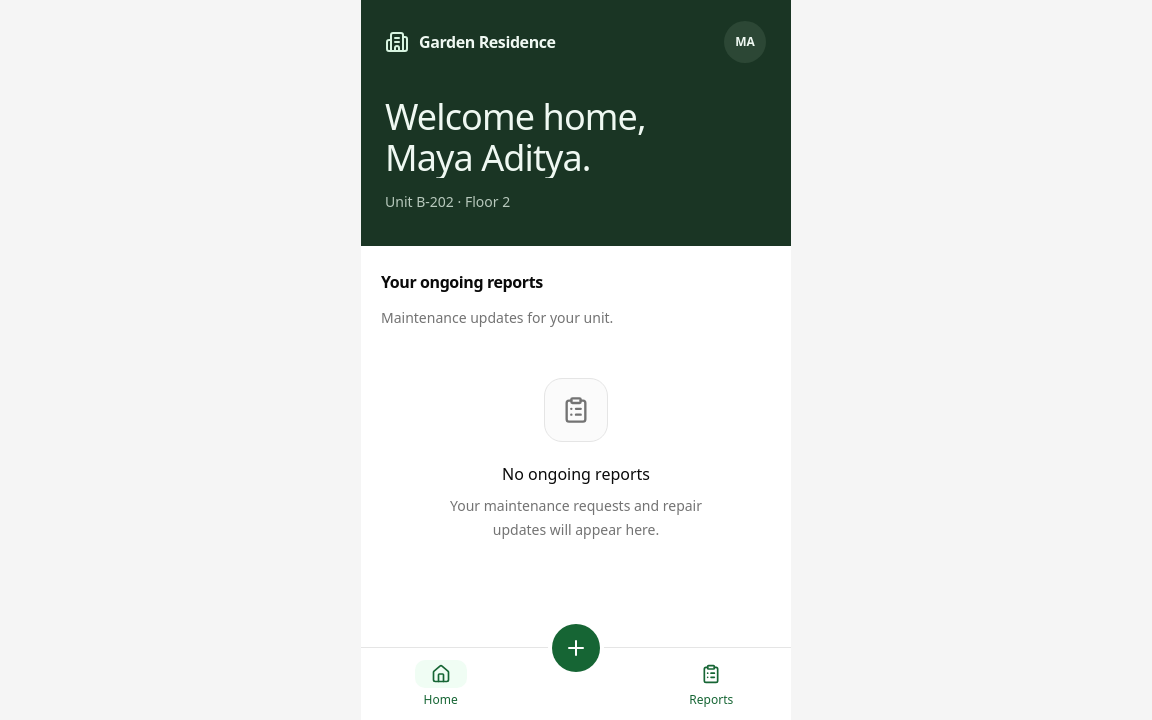
Test: opens the form only from the navigation plus without changing the URL
The width and height of the screenshot is (1152, 720).
Click the button named "Report".
click(576, 684)  # box [508, 656, 644, 712]
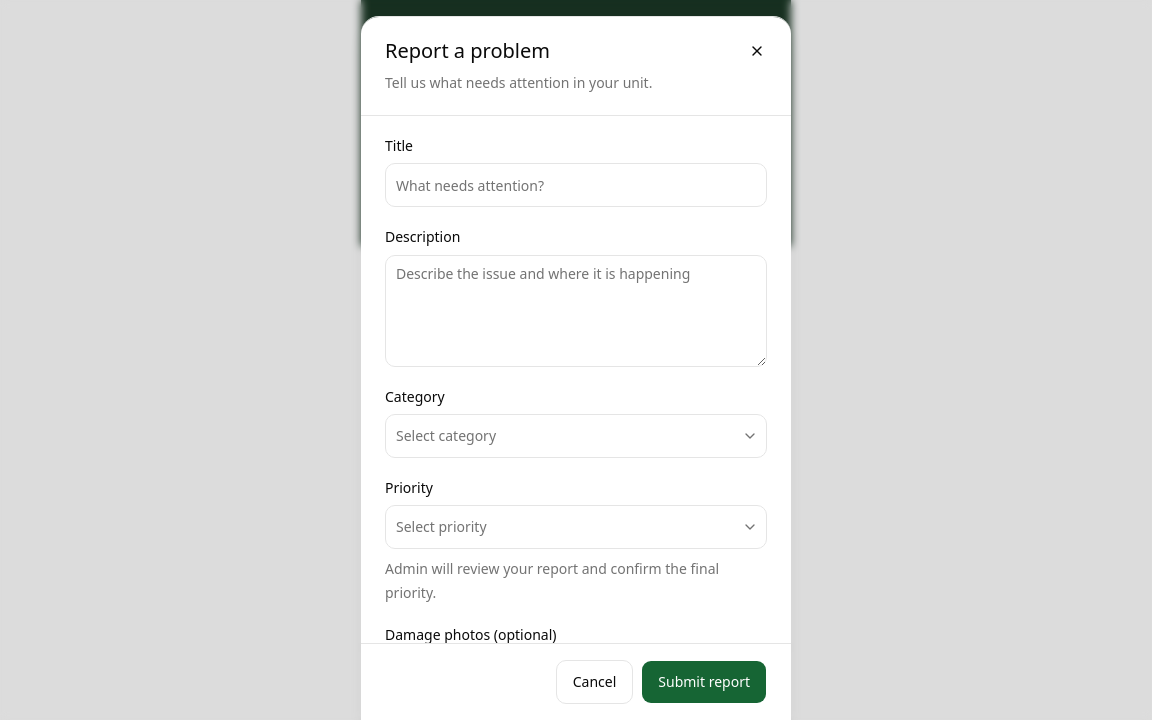
Result: the number of dropdowns is 2 at [385, 414, 767, 458]; [385, 505, 767, 549]
Result: the dropdown labelled "category" shows "Select category" at [385, 414, 767, 458]
Result: the dropdown labelled "priority" shows "Select priority" at [385, 505, 767, 549]
